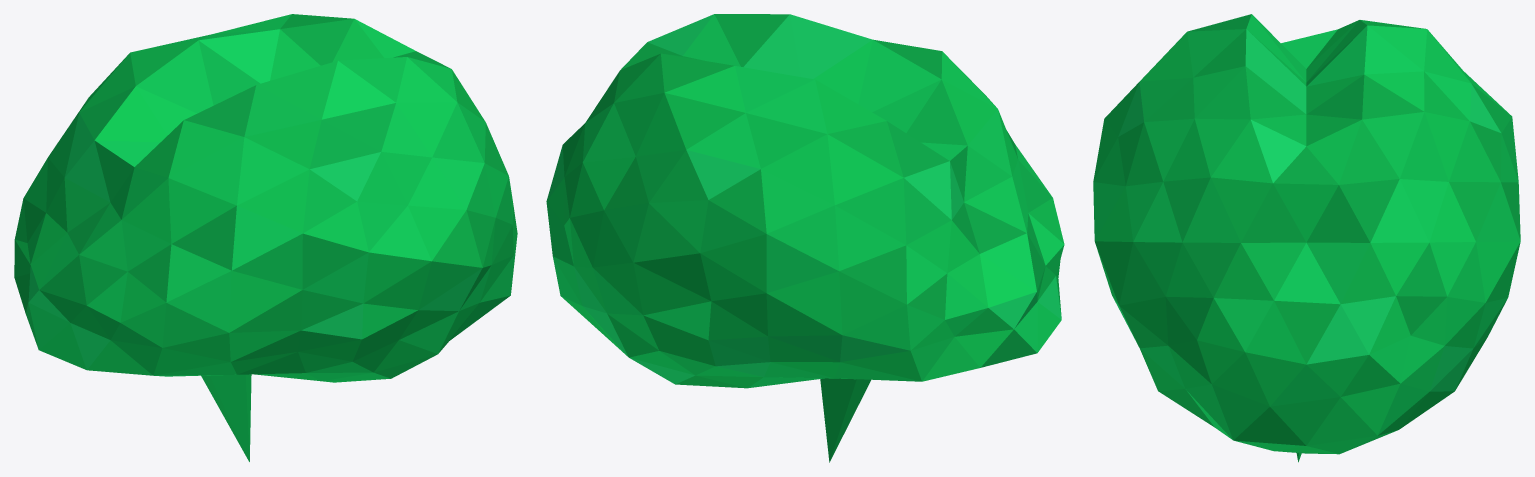
Rendered from emerald-brain.glb.
3 views of the same model, side by side, from view 1: azimuth 30°, elevation 25°; view 2: azimuth 150°, elevation 25°; view 3: azimuth 270°, elevation 25° (orthographic). The views are drawn at different scales.
Size of the model in its own units: 2.71 by 2.24 by 2.02.
